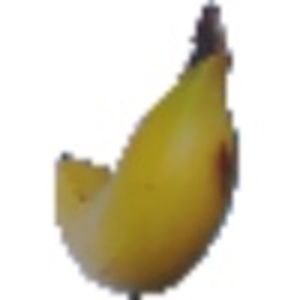banana: (41, 6, 243, 293)
